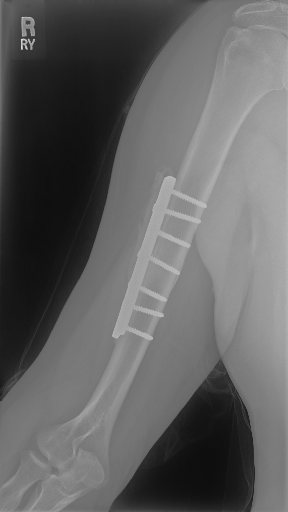implant: (113, 172, 202, 355)
